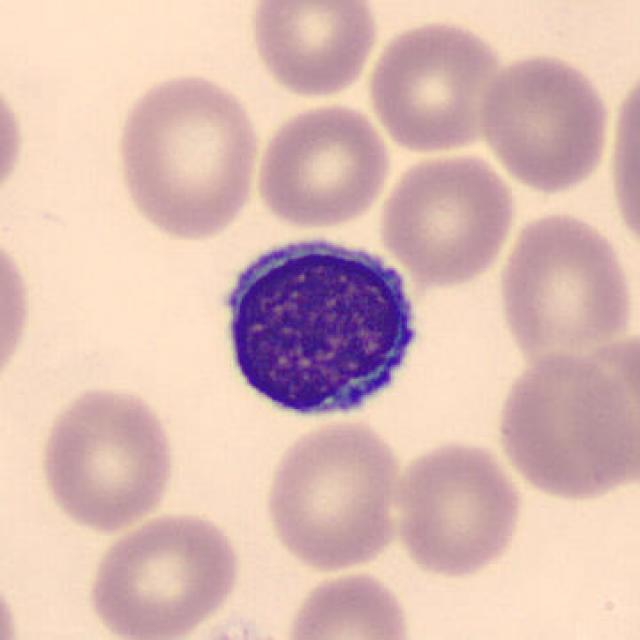Lymphocyte: (208, 224, 430, 427)
RBC: (110, 69, 263, 243), (260, 416, 407, 573), (494, 206, 635, 365), (36, 381, 180, 534), (492, 348, 633, 504), (84, 508, 245, 640), (364, 16, 510, 157), (476, 49, 614, 196), (389, 436, 526, 580), (375, 150, 517, 287), (251, 100, 393, 231), (245, 0, 380, 100), (282, 567, 417, 640), (602, 58, 640, 264), (0, 222, 36, 397), (0, 63, 28, 215), (0, 564, 25, 640)
